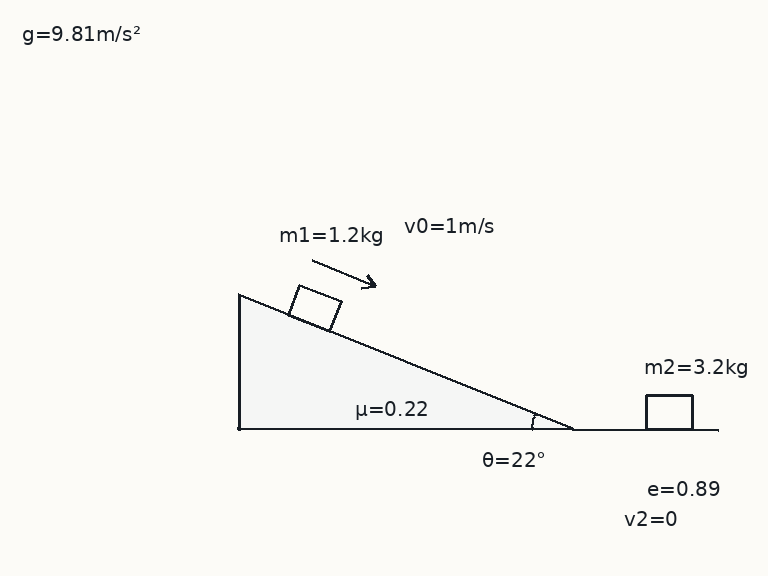block: (286, 282, 343, 333), (644, 393, 694, 431)
ramp: (236, 292, 574, 431)
